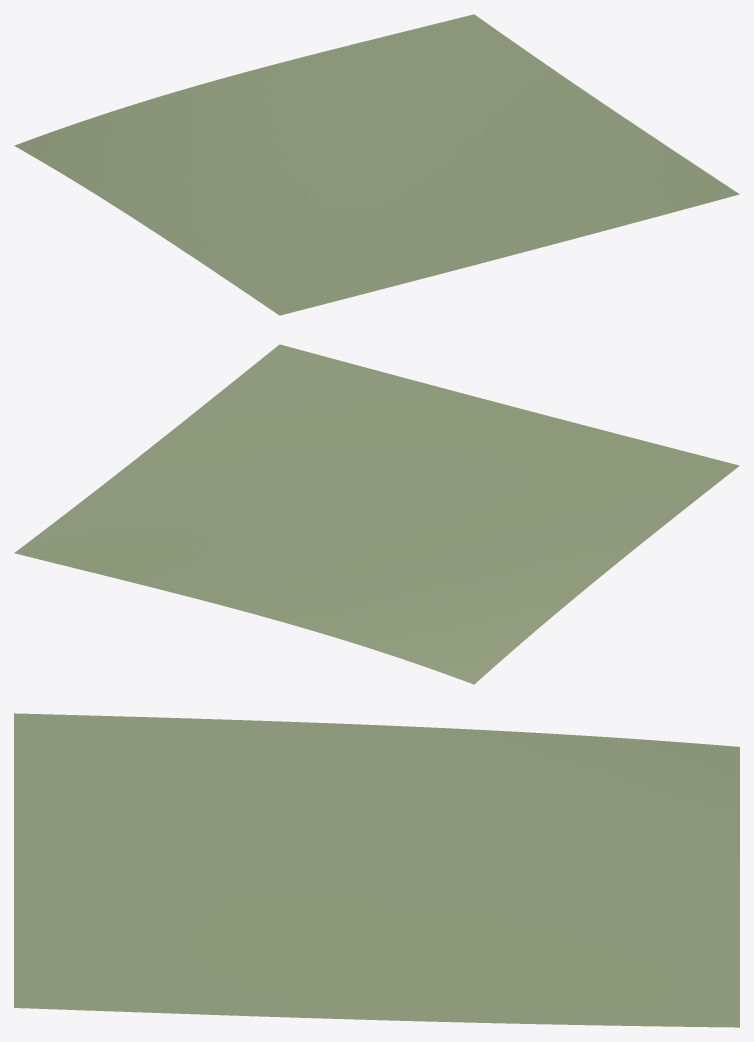
File: expanse-9-24.glb
The picture shows the model from 3 angles, top to bottom: view 1: azimuth 30°, elevation 25°; view 2: azimuth 150°, elevation 25°; view 3: azimuth 270°, elevation 25°; orthographic projection. The views are drawn at different scales.
Visible parts, largest first — view 1: expanse-9-24; view 2: expanse-9-24; view 3: expanse-9-24.
Part boxes in pixels (bbox=[...]): expanse-9-24: bbox=[14, 14, 739, 315]; expanse-9-24: bbox=[14, 344, 739, 684]; expanse-9-24: bbox=[14, 713, 739, 1027].
Size of the model in its own units: 256 by 17.83 by 256.
